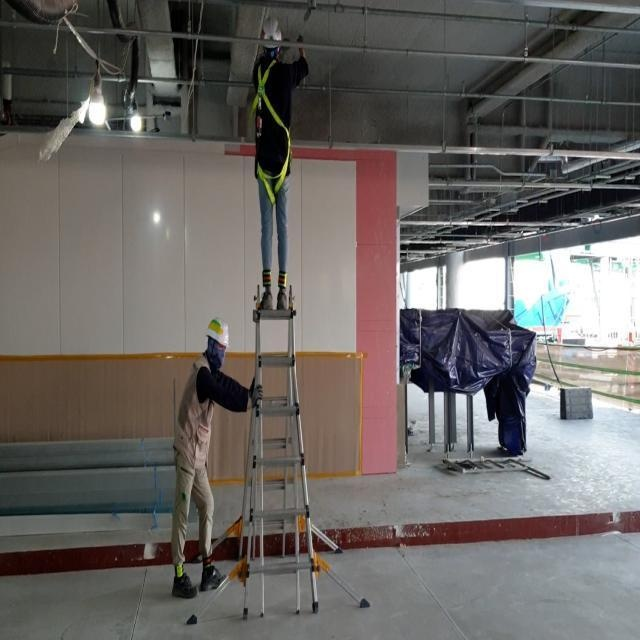Arnes_seguridad: (249, 58, 291, 199)
